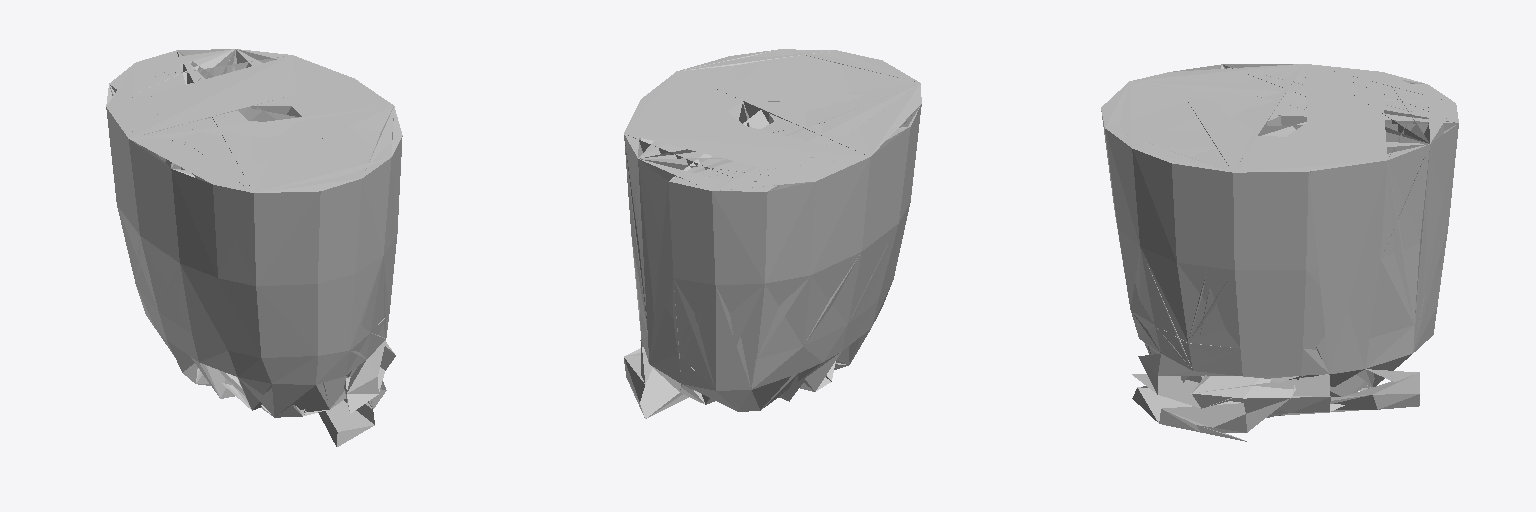
File: Glove.obj
3 views of the same model, side by side, from view 1: azimuth 30°, elevation 25°; view 2: azimuth 150°, elevation 25°; view 3: azimuth 270°, elevation 25° (orthographic).
Parts seen in each view (by area): view 1: DrawCall_0547, DrawCall_0493, DrawCall_0495, DrawCall_0479, DrawCall_0481, DrawCall_0497, DrawCall_0498, DrawCall_0491, DrawCall_0485, DrawCall_0484, DrawCall_0480, DrawCall_0546 (+3 smaller); view 2: DrawCall_0493, DrawCall_0547, DrawCall_0497, DrawCall_0491, DrawCall_0481, DrawCall_0482, DrawCall_0495, DrawCall_0479, DrawCall_0485, DrawCall_0480, DrawCall_0498, DrawCall_0490 (+6 smaller); view 3: DrawCall_0547, DrawCall_0493, DrawCall_0495, DrawCall_0485, DrawCall_0482, DrawCall_0481, DrawCall_0497, DrawCall_0491, DrawCall_0498, DrawCall_0484, DrawCall_0479, DrawCall_0546 (+2 smaller).
Part boxes in pixels (x1,y1,x2,y2): DrawCall_0547: (117, 139, 401, 384); DrawCall_0493: (106, 49, 402, 415); DrawCall_0495: (112, 86, 395, 446); DrawCall_0479: (106, 57, 401, 410); DrawCall_0481: (109, 56, 402, 417); DrawCall_0497: (110, 49, 391, 369); DrawCall_0498: (130, 139, 360, 284); DrawCall_0491: (106, 63, 393, 417); DrawCall_0485: (134, 72, 390, 416); DrawCall_0484: (164, 49, 387, 334); DrawCall_0480: (108, 111, 226, 349); DrawCall_0546: (110, 51, 370, 415); DrawCall_0493: (624, 51, 919, 401); DrawCall_0547: (624, 136, 910, 382); DrawCall_0497: (638, 49, 919, 409); DrawCall_0491: (677, 60, 869, 411); DrawCall_0481: (625, 49, 918, 411); DrawCall_0482: (640, 104, 897, 402); DrawCall_0495: (624, 92, 907, 418); DrawCall_0479: (624, 50, 921, 404); DrawCall_0485: (631, 49, 911, 390); DrawCall_0480: (752, 129, 908, 389); DrawCall_0498: (837, 50, 921, 219); DrawCall_0490: (641, 113, 909, 411); DrawCall_0547: (1101, 64, 1458, 375); DrawCall_0493: (1108, 64, 1458, 387); DrawCall_0495: (1106, 129, 1424, 441); DrawCall_0485: (1105, 64, 1386, 395); DrawCall_0482: (1155, 65, 1427, 396); DrawCall_0481: (1115, 66, 1458, 375); DrawCall_0497: (1118, 81, 1458, 368); DrawCall_0491: (1146, 64, 1453, 375); DrawCall_0498: (1101, 64, 1302, 127); DrawCall_0484: (1158, 107, 1429, 346); DrawCall_0479: (1101, 64, 1416, 372); DrawCall_0546: (1101, 64, 1458, 349).
Size of the model in its own units: 17.45 by 20.27 by 23.56.